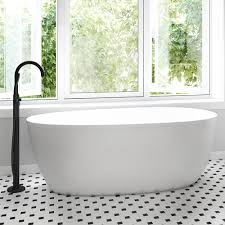bathub: (24, 95, 224, 200)
